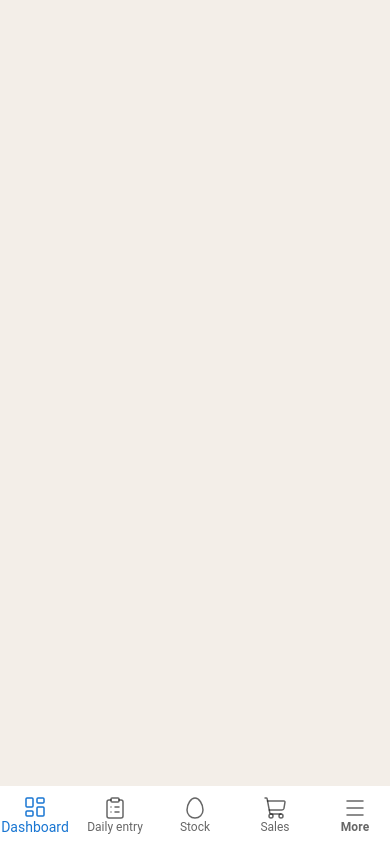
Scenario: AppLayout bottom tabs › opens the More sheet with the full grouped nav and a way out
Click the button "More".
click(352, 815)  # box [315,786,389,843]
(page scrolled)
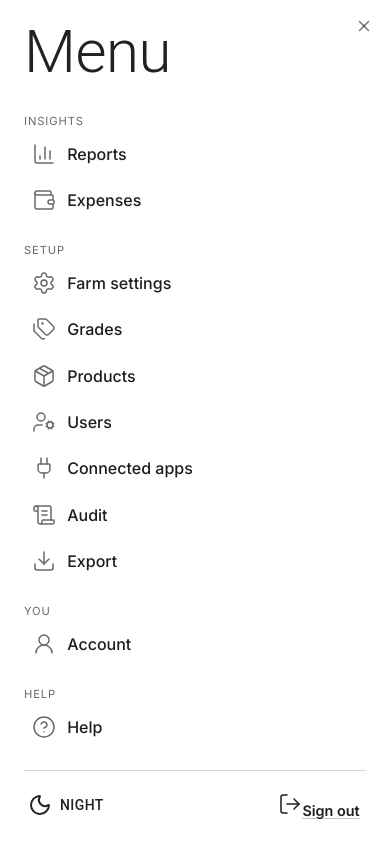
Expected: the link "Grades" is shown, [32,317,122,341]
Expected: the link "Export" is shown, [32,549,117,573]
Expected: the button "Sign out" is shown, [272,787,366,824]
